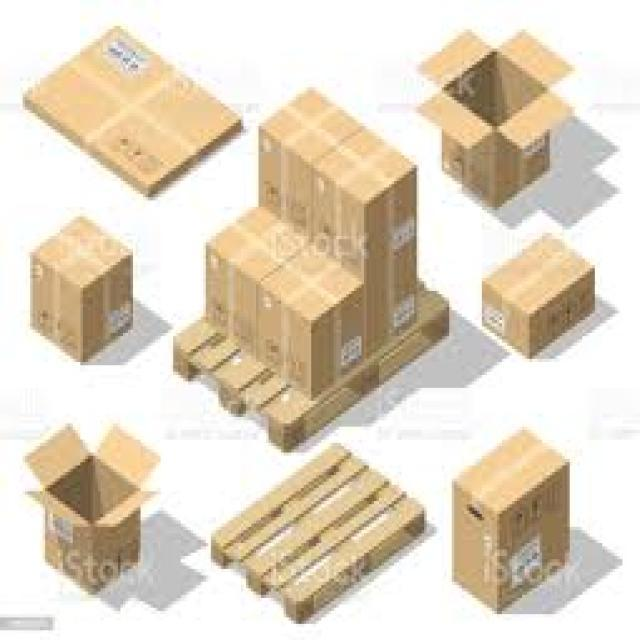Cardboard: (19, 26, 243, 201), (417, 25, 584, 207), (22, 421, 161, 593), (453, 428, 570, 612), (28, 217, 136, 367), (478, 230, 596, 359)
